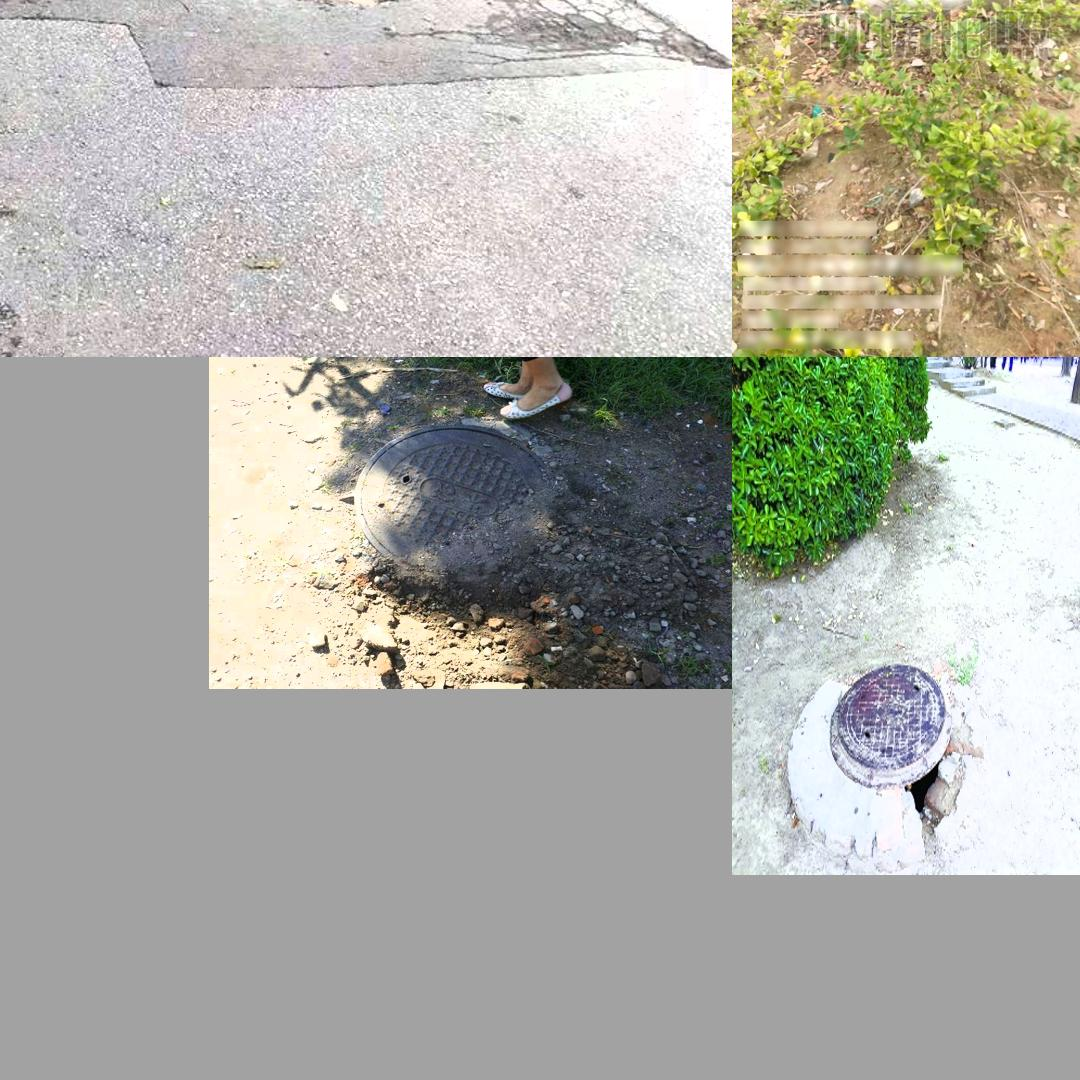circle: (303, 420, 604, 602), (10, 0, 612, 81), (781, 656, 994, 850)
